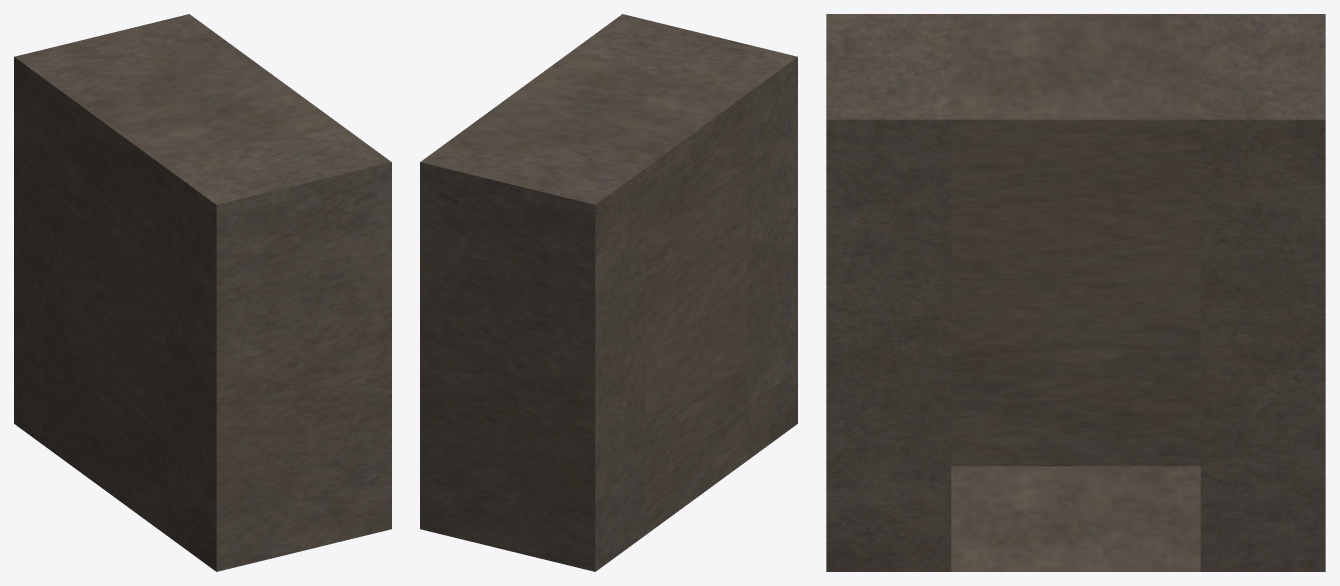
The model's file is WallCap.fbx.
3 views of the same model, side by side, from view 1: azimuth 30°, elevation 25°; view 2: azimuth 150°, elevation 25°; view 3: azimuth 270°, elevation 25° (orthographic). The views are drawn at different scales.
Parts seen in each view (by area): view 1: Cube_011; view 2: Cube_011; view 3: Cube_011.
Boxes of the visible parts, x1=… form: Cube_011: x1=14, y1=14, x2=391, y2=571; Cube_011: x1=420, y1=14, x2=797, y2=571; Cube_011: x1=826, y1=14, x2=1325, y2=571.
Size of the model in its own units: 100 by 200 by 200.
